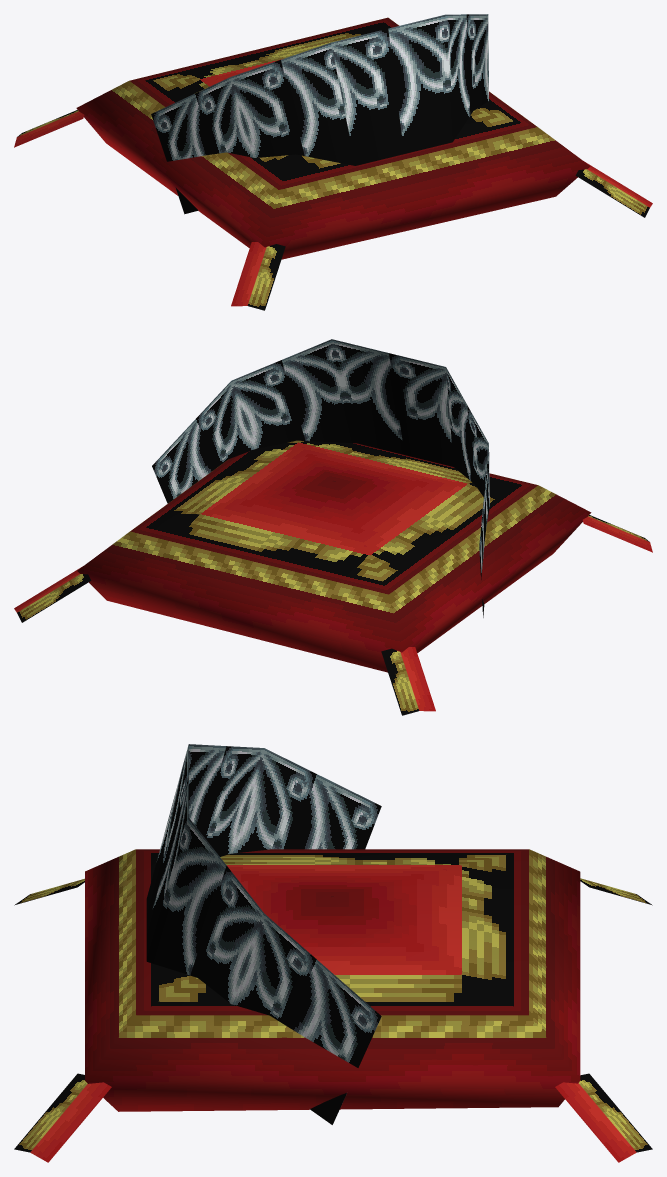
3 renders of one model, top to bottom at view 1: azimuth 30°, elevation 25°; view 2: azimuth 150°, elevation 25°; view 3: azimuth 270°, elevation 25°, orthographic. The views are drawn at different scales.
Visible parts, largest first — view 1: 5586uc_ac_hed6_d; view 2: 5586uc_ac_hed6_d; view 3: 5586uc_ac_hed6_d.
Boxes of the visible parts, box(x1,y1,x2,y2) form: 5586uc_ac_hed6_d: box(14, 14, 652, 310); 5586uc_ac_hed6_d: box(14, 339, 652, 715); 5586uc_ac_hed6_d: box(14, 744, 652, 1162).
Bounding box in the file's own units: 0.998 × 0.4944 × 0.9946.
4 materials, 4 textured.
